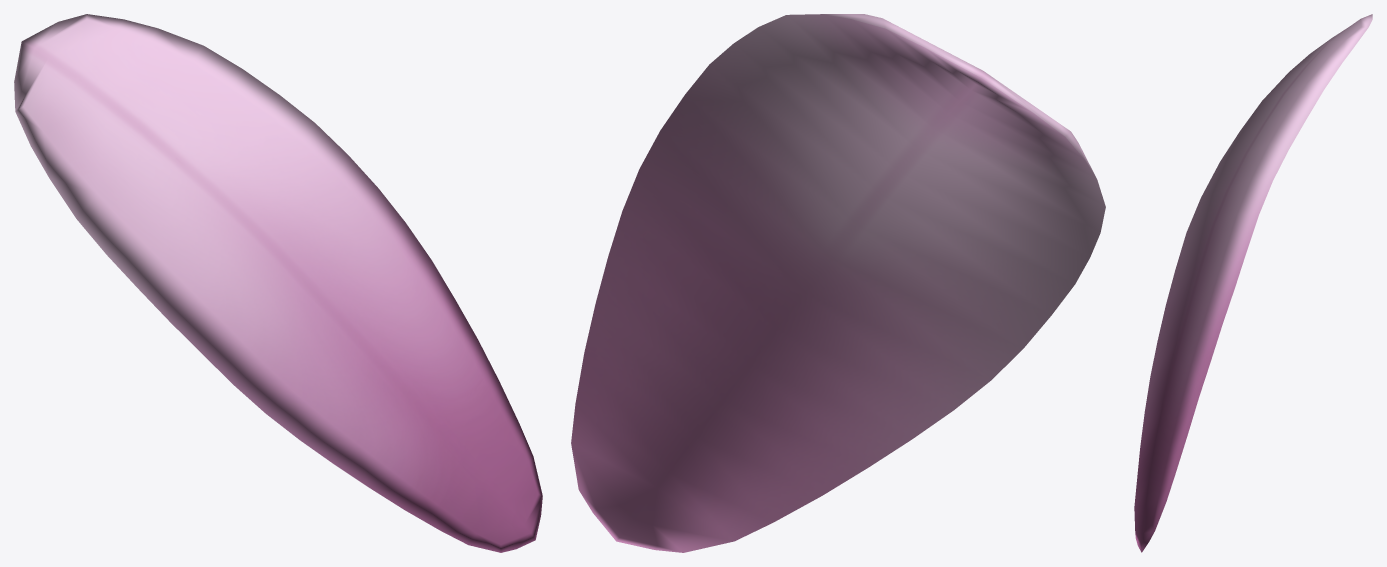
The model's file is petal4.obj.
3 views of the same model, side by side, from view 1: azimuth 30°, elevation 25°; view 2: azimuth 150°, elevation 25°; view 3: azimuth 270°, elevation 25° (orthographic). The views are drawn at different scales.
Visible parts, largest first — view 1: Object028; view 2: Object028; view 3: Object028.
Part boxes in pixels (x1=…): Object028: x1=14, y1=14, x2=542, y2=552; Object028: x1=571, y1=14, x2=1105, y2=552; Object028: x1=1134, y1=14, x2=1372, y2=552.
Size of the model in its own units: 75.26 by 86.58 by 46.15.
